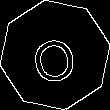O_N: (29, 26, 81, 84)
